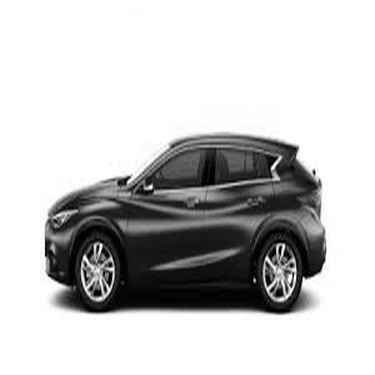car: (40, 131, 327, 318)
